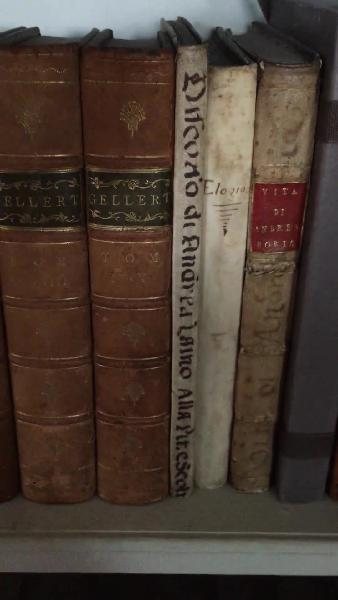Aa6-24: (170, 37, 212, 495)
Aa6-25: (194, 47, 255, 497)
Aa6-26: (225, 30, 313, 499)
